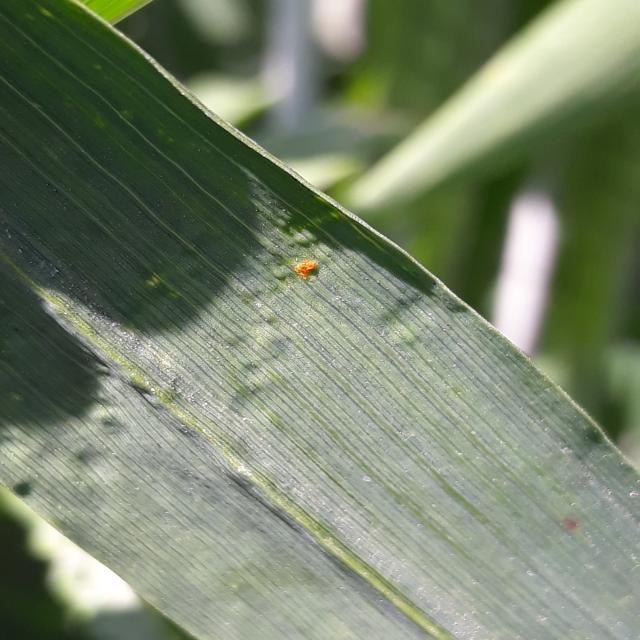orang_rust: (251, 236, 409, 328)
